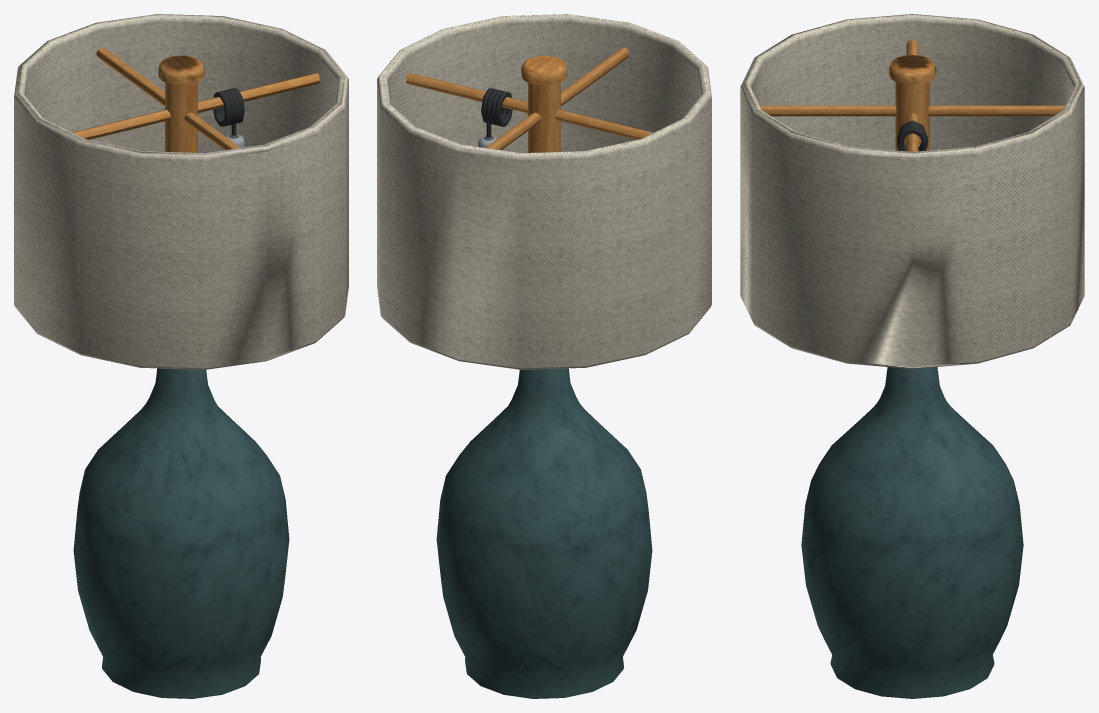
File: simple-lamp.FBX
The picture shows the model from 3 angles, left to right: view 1: azimuth 30°, elevation 25°; view 2: azimuth 150°, elevation 25°; view 3: azimuth 270°, elevation 25°; orthographic projection.
Parts seen in each view (by area): view 1: Cylinder; view 2: Cylinder; view 3: Cylinder.
Part boxes in pixels (box(x1,y1,x2,y2)): Cylinder: box(14, 14, 348, 698); Cylinder: box(377, 14, 711, 698); Cylinder: box(740, 14, 1084, 698).
Size of the model in its own units: 5.82 by 11.53 by 5.96.
